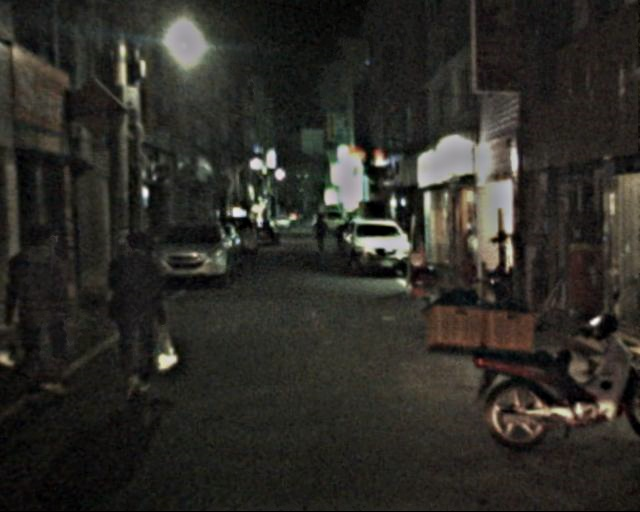person: (2, 221, 87, 390), (105, 230, 172, 396), (309, 213, 332, 258)
